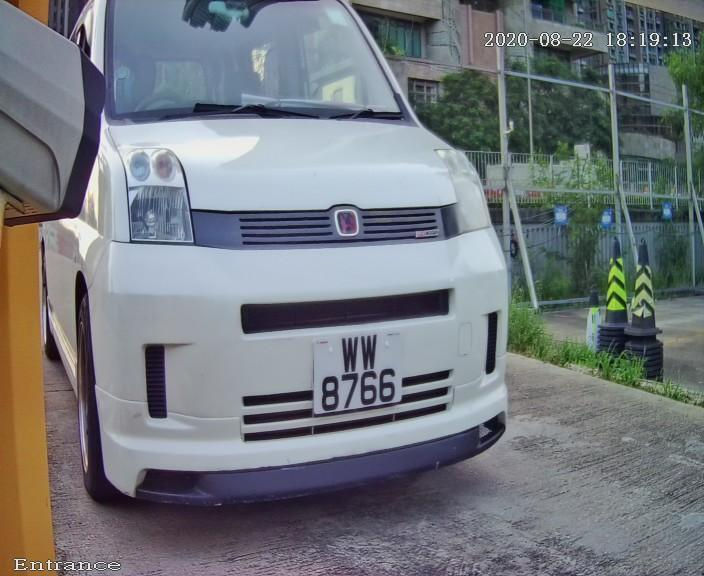License Plate: (302, 325, 415, 430)
